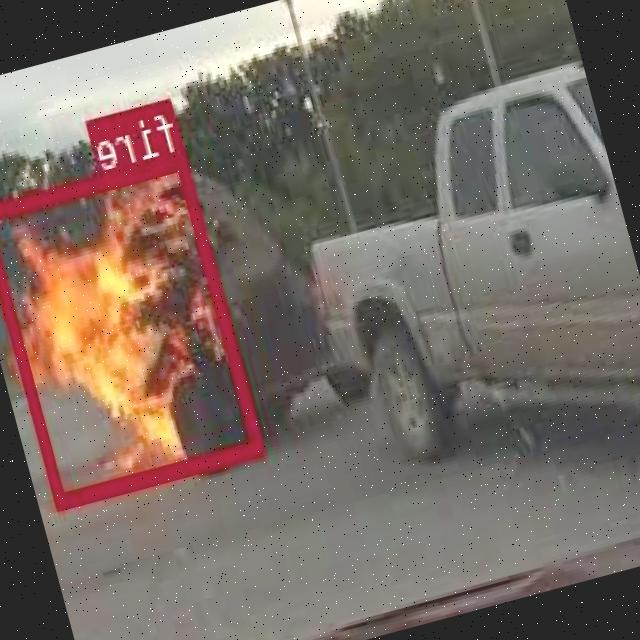fire: (0, 150, 266, 507)
